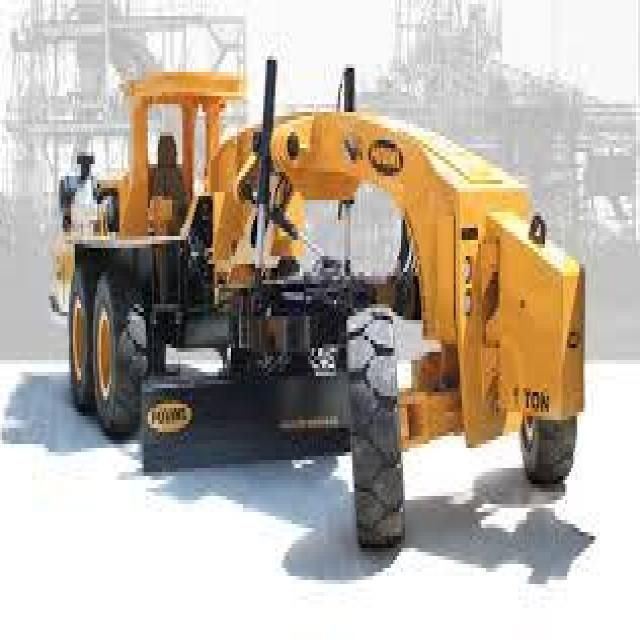Grader: (41, 68, 604, 560)
